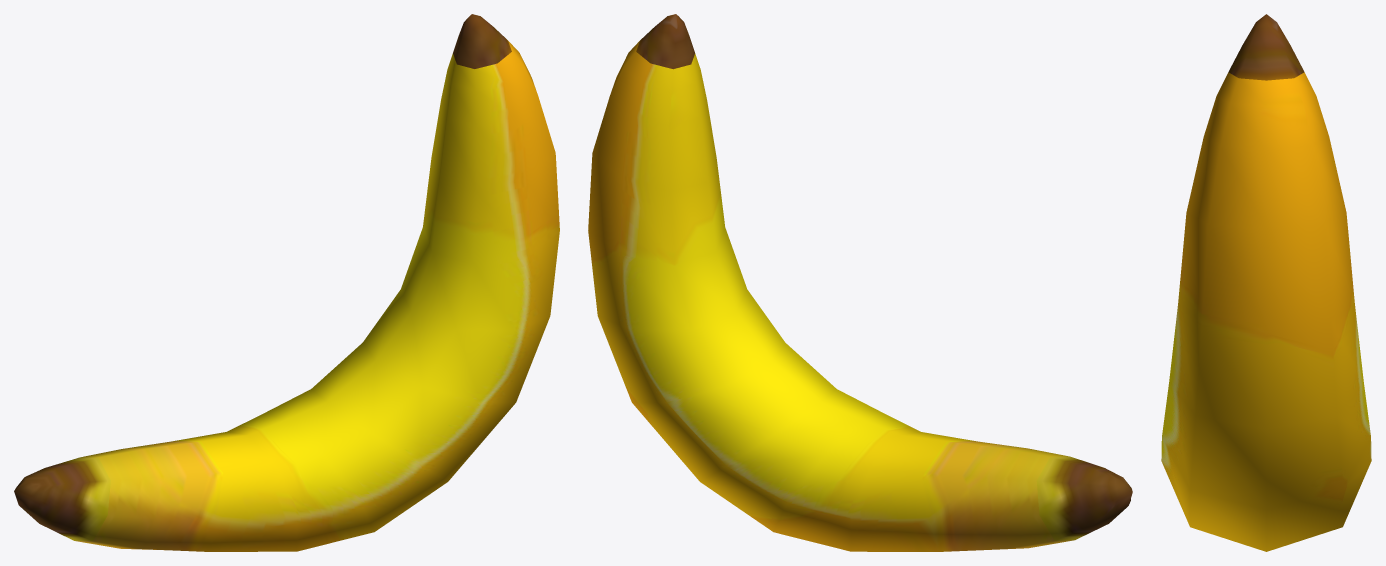
Rendered from Platano.fbx.
The picture shows the model from 3 angles, left to right: view 1: azimuth 30°, elevation 25°; view 2: azimuth 150°, elevation 25°; view 3: azimuth 270°, elevation 25°; orthographic projection. The views are drawn at different scales.
Parts seen in each view (by area): view 1: Cube; view 2: Cube; view 3: Cube.
Part boxes in pixels (x1=…): Cube: x1=14, y1=14, x2=559, y2=551; Cube: x1=588, y1=14, x2=1132, y2=551; Cube: x1=1161, y1=14, x2=1371, y2=551.
Bounding box in the file's own units: 899 × 780 × 242.
Materials: 1 (1 with a texture image).
